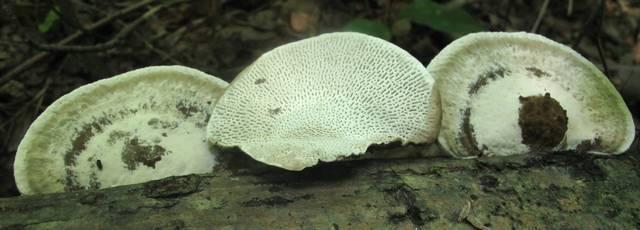Non-edible Mushroom: (205, 30, 441, 171), (12, 63, 231, 196), (426, 29, 635, 162)
